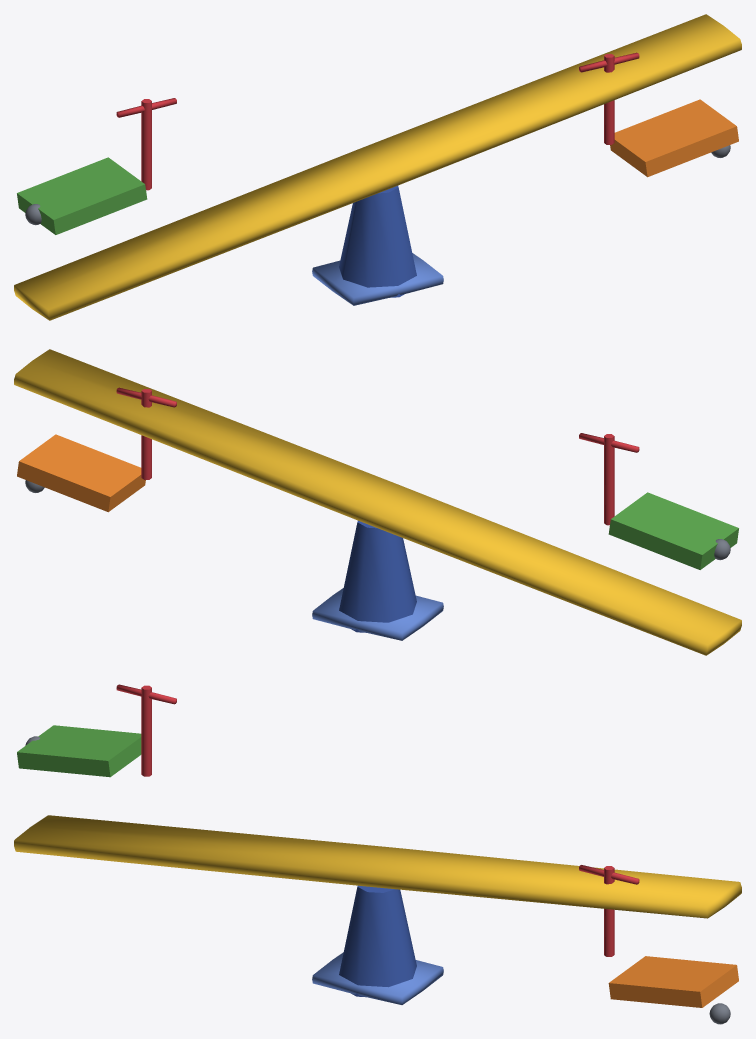
File: see_saw.glb
3 renders of one model, top to bottom at view 1: azimuth 30°, elevation 25°; view 2: azimuth 150°, elevation 25°; view 3: azimuth 330°, elevation 25°, orthographic.
Parts seen in each view (by area): view 1: root; view 2: root; view 3: root.
Boxes of the visible parts, x1=… form: root: x1=14, y1=14, x2=741, y2=320; root: x1=14, y1=349, x2=741, y2=655; root: x1=14, y1=684, x2=741, y2=1024.
Size of the model in its own units: 3.8 by 1.22 by 0.4.
